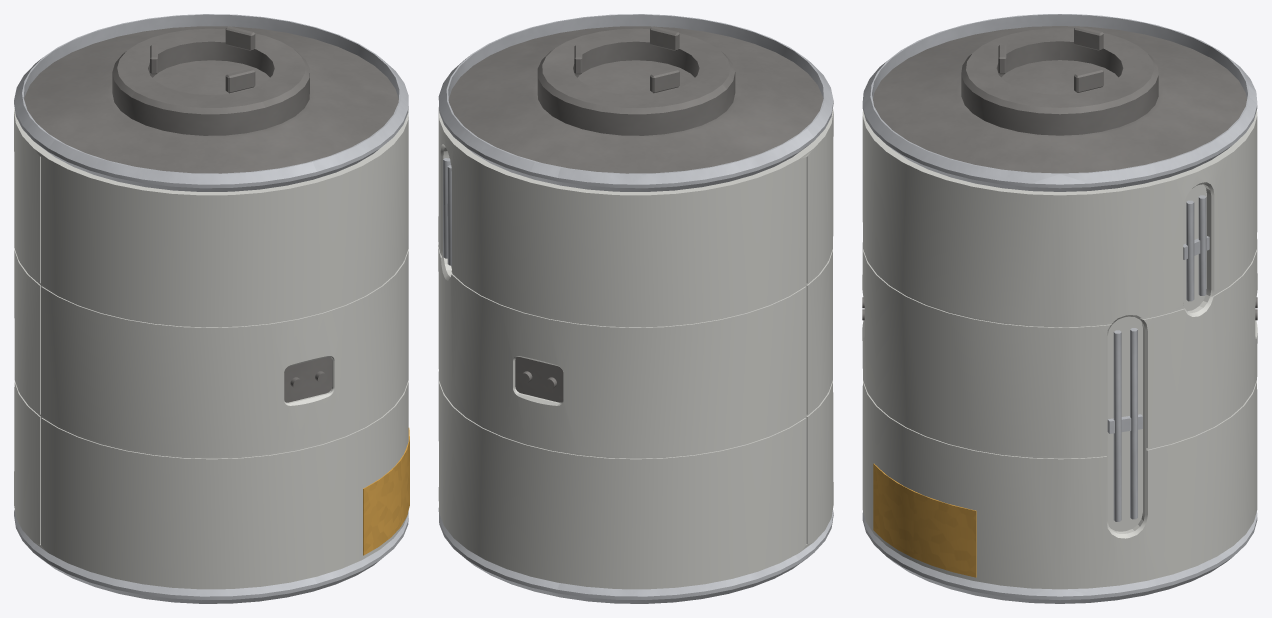
File: ax_tank_15_cryo_transfer.glb
3 views of the same model, side by side, from view 1: azimuth 30°, elevation 25°; view 2: azimuth 150°, elevation 25°; view 3: azimuth 270°, elevation 25° (orthographic).
Parts seen in each view (by area): view 1: tank_barrel, port_adapters, end_rings, docking_port_top, mli_patch, docking_port_top_hatch, transfer_umbilicals, docking_port_top_petals; view 2: tank_barrel, port_adapters, end_rings, docking_port_top, docking_port_top_hatch, transfer_umbilicals, docking_port_top_petals, raceway_lines; view 3: tank_barrel, port_adapters, end_rings, docking_port_top, mli_patch, raceway_lines, docking_port_top_hatch, docking_port_top_petals.
Part boxes in pixels (x1,y1,x2,y2): tank_barrel: (14, 109, 408, 589); port_adapters: (24, 26, 398, 173); end_rings: (14, 14, 408, 603); docking_port_top: (112, 28, 309, 135); mli_patch: (363, 428, 409, 555); docking_port_top_hatch: (153, 60, 269, 94); transfer_umbilicals: (284, 357, 332, 402); docking_port_top_petals: (150, 26, 255, 93); tank_barrel: (438, 107, 833, 589); port_adapters: (448, 26, 823, 173); end_rings: (438, 14, 833, 603); docking_port_top: (537, 28, 735, 135); docking_port_top_hatch: (577, 60, 694, 94); transfer_umbilicals: (515, 357, 563, 402); docking_port_top_petals: (574, 26, 679, 93); raceway_lines: (443, 158, 451, 265); tank_barrel: (862, 110, 1257, 589); port_adapters: (873, 26, 1246, 173); end_rings: (862, 14, 1257, 603); docking_port_top: (961, 28, 1158, 135); mli_patch: (873, 463, 976, 577); raceway_lines: (1107, 195, 1209, 521); docking_port_top_hatch: (1001, 60, 1118, 94); docking_port_top_petals: (998, 26, 1103, 92).
Bounding box in the file's own units: 2.5 × 3.6 × 2.5.
4 materials, 3 textured.
